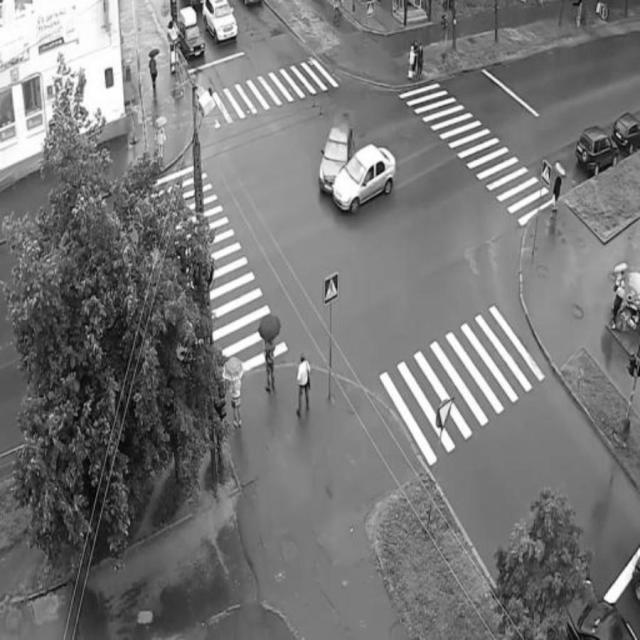accident: (319, 131, 397, 211)
person: (291, 351, 321, 425), (548, 163, 573, 224), (227, 355, 247, 431), (256, 323, 276, 393), (142, 51, 162, 108), (152, 113, 172, 161), (616, 267, 628, 337), (414, 37, 422, 84), (410, 43, 417, 85)
vehicle: (574, 127, 616, 179), (180, 10, 207, 71), (205, 2, 239, 50), (610, 111, 640, 152)
